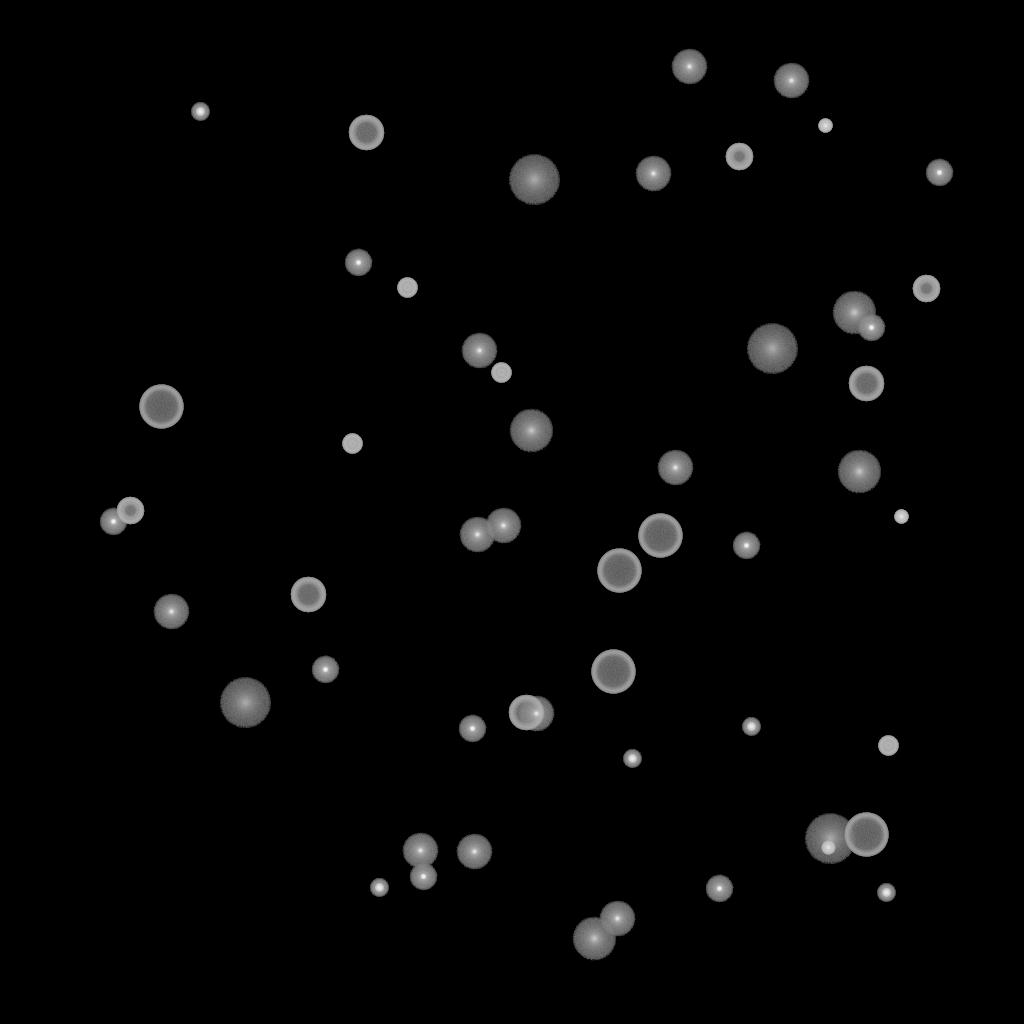depth:-10: (409, 863, 437, 891), (458, 715, 486, 743), (732, 532, 760, 560), (344, 249, 372, 277), (705, 875, 733, 903), (99, 508, 127, 536), (857, 314, 885, 342), (311, 656, 339, 684), (925, 159, 953, 187)
depth:-20: (370, 879, 388, 897), (877, 884, 895, 902), (742, 718, 760, 736), (191, 103, 209, 121), (623, 750, 641, 768)
depth:-30: (821, 841, 835, 855), (894, 510, 908, 524), (818, 119, 832, 133)
depth:-40: (397, 278, 417, 298), (878, 736, 898, 756), (342, 434, 362, 454), (491, 363, 511, 383)
depth:-50: (725, 143, 753, 171), (116, 497, 144, 525), (912, 275, 940, 303)
depth:-60: (290, 577, 326, 613), (848, 366, 884, 402), (508, 695, 544, 731), (348, 115, 384, 151)
depth:-70: (139, 385, 183, 429), (597, 549, 641, 593), (844, 813, 888, 857), (638, 514, 682, 558), (591, 650, 635, 694)
depth:0: (485, 508, 521, 544), (153, 594, 189, 630), (402, 833, 438, 869), (599, 901, 635, 937), (459, 517, 495, 553), (635, 156, 671, 192), (671, 49, 707, 85), (773, 63, 809, 99), (456, 834, 492, 870), (518, 696, 554, 732), (461, 333, 497, 369), (657, 450, 693, 486)
depth:10: (837, 450, 881, 494), (509, 409, 553, 453), (832, 291, 876, 335), (572, 917, 616, 961)
depth:20: (746, 324, 798, 374), (219, 678, 271, 728), (508, 155, 560, 205), (804, 814, 856, 864)
